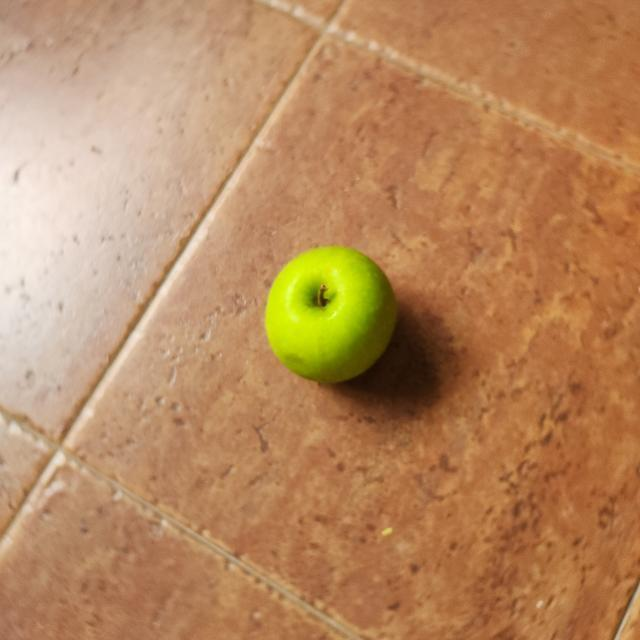apple: (258, 240, 406, 392)
